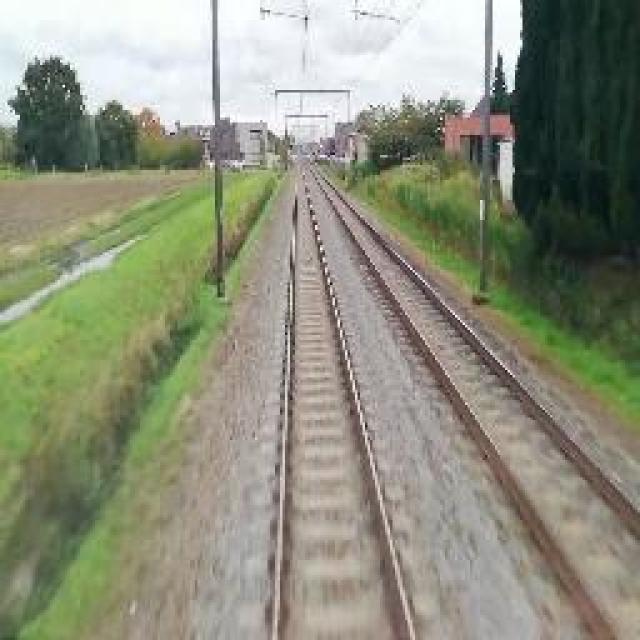rail: (230, 164, 453, 640)
